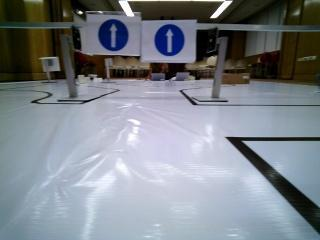straight: (89, 11, 137, 55), (143, 22, 192, 59)
